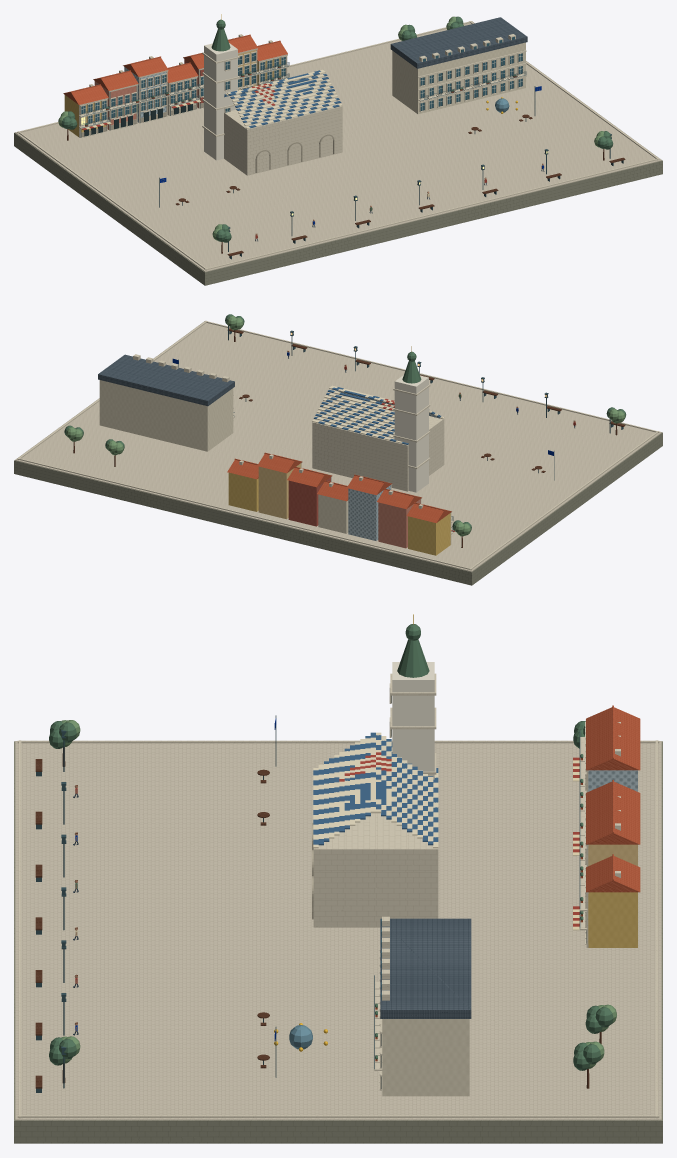
File: zagreb-reference.glb
The picture shows the model from 3 angles, top to bottom: view 1: azimuth 30°, elevation 25°; view 2: azimuth 150°, elevation 25°; view 3: azimuth 270°, elevation 25°; orthographic projection. The views are drawn at different scales.
Visible parts, largest first — view 1: zagreb_arquitetura_Calcada portuguesa, zagreb_arquitetura_Cantaria clara, zagreb_arquitetura_Corte de terreno, zagreb_arquitetura_Reboco marfim, zagreb_arquitetura_Marfim pintado, zagreb_arquitetura_Ardosia europeia, zagreb_arquitetura_Vidro das janelas, zagreb_arquitetura_Telha ceramica, zagreb_arquitetura_Ceramica marfim, zagreb_arquitetura_Ceramica azul, zagreb_arquitetura_Ferro pintado da ponte, zagreb_arquitetura_Folhagem (+5 smaller); view 2: zagreb_arquitetura_Calcada portuguesa, zagreb_arquitetura_Cantaria clara, zagreb_arquitetura_Corte de terreno, zagreb_arquitetura_Reboco marfim, zagreb_arquitetura_Telha ceramica, zagreb_arquitetura_Ardosia europeia, zagreb_arquitetura_Marfim pintado, zagreb_arquitetura_Reboco ocre, zagreb_arquitetura_Ceramica marfim, zagreb_arquitetura_Ceramica azul, zagreb_arquitetura_Reboco amarelo, zagreb_arquitetura_Azulejo azul e branco (+6 smaller); view 3: zagreb_arquitetura_Calcada portuguesa, zagreb_arquitetura_Cantaria clara, zagreb_arquitetura_Corte de terreno, zagreb_arquitetura_Ardosia europeia, zagreb_arquitetura_Telha ceramica, zagreb_arquitetura_Reboco marfim, zagreb_arquitetura_Ceramica marfim, zagreb_arquitetura_Ceramica azul, zagreb_arquitetura_Folhagem, zagreb_arquitetura_Marfim pintado, zagreb_arquitetura_Reboco ocre, zagreb_arquitetura_Ferro pintado da ponte (+3 smaller).
Part boxes in pixels (x1,y1,x2,y2): zagreb_arquitetura_Calcada portuguesa: [15, 21, 661, 271]; zagreb_arquitetura_Cantaria clara: [17, 21, 659, 270]; zagreb_arquitetura_Corte de terreno: [14, 132, 662, 285]; zagreb_arquitetura_Reboco marfim: [167, 42, 525, 115]; zagreb_arquitetura_Marfim pintado: [81, 43, 522, 160]; zagreb_arquitetura_Ardosia europeia: [390, 17, 527, 68]; zagreb_arquitetura_Vidro das janelas: [81, 36, 522, 123]; zagreb_arquitetura_Telha ceramica: [63, 34, 516, 126]; zagreb_arquitetura_Ceramica marfim: [225, 69, 342, 128]; zagreb_arquitetura_Ceramica azul: [224, 70, 341, 128]; zagreb_arquitetura_Ferro pintado da ponte: [80, 62, 623, 259]; zagreb_arquitetura_Folhagem: [61, 16, 613, 242]; zagreb_arquitetura_Calcada portuguesa: [15, 320, 661, 571]; zagreb_arquitetura_Cantaria clara: [17, 320, 659, 570]; zagreb_arquitetura_Corte de terreno: [14, 432, 662, 585]; zagreb_arquitetura_Reboco marfim: [99, 380, 348, 533]; zagreb_arquitetura_Telha ceramica: [227, 452, 451, 522]; zagreb_arquitetura_Ardosia europeia: [98, 354, 234, 406]; zagreb_arquitetura_Marfim pintado: [394, 375, 428, 492]; zagreb_arquitetura_Reboco ocre: [228, 472, 450, 555]; zagreb_arquitetura_Ceramica marfim: [312, 385, 444, 443]; zagreb_arquitetura_Ceramica azul: [313, 387, 441, 444]; zagreb_arquitetura_Reboco amarelo: [258, 463, 301, 519]; zagreb_arquitetura_Azulejo azul e branco: [348, 485, 390, 540]; zagreb_arquitetura_Calcada portuguesa: [15, 741, 661, 1120]; zagreb_arquitetura_Cantaria clara: [17, 673, 659, 1118]; zagreb_arquitetura_Corte de terreno: [14, 741, 662, 1143]; zagreb_arquitetura_Ardosia europeia: [380, 918, 471, 1018]; zagreb_arquitetura_Telha ceramica: [375, 705, 640, 1061]; zagreb_arquitetura_Reboco marfim: [382, 1019, 469, 1096]; zagreb_arquitetura_Ceramica marfim: [313, 732, 438, 848]; zagreb_arquitetura_Ceramica azul: [313, 732, 438, 845]; zagreb_arquitetura_Folhagem: [49, 624, 613, 1070]; zagreb_arquitetura_Marfim pintado: [392, 662, 434, 779]; zagreb_arquitetura_Reboco ocre: [588, 892, 637, 947]; zagreb_arquitetura_Ferro pintado da ponte: [36, 715, 580, 1092].
Bounding box in the file's own units: 72 × 23 × 52.
Materials: 30 (13 with a texture image).
